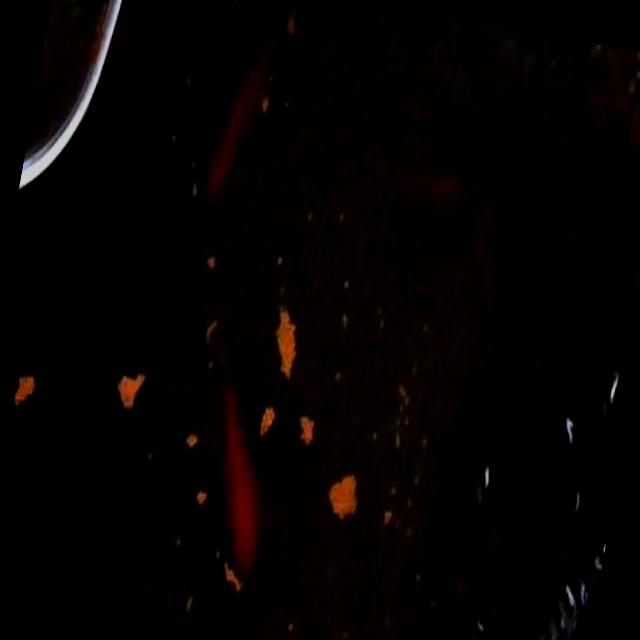fish: (182, 370, 292, 632), (199, 0, 306, 213), (394, 142, 526, 308), (55, 342, 142, 562)
